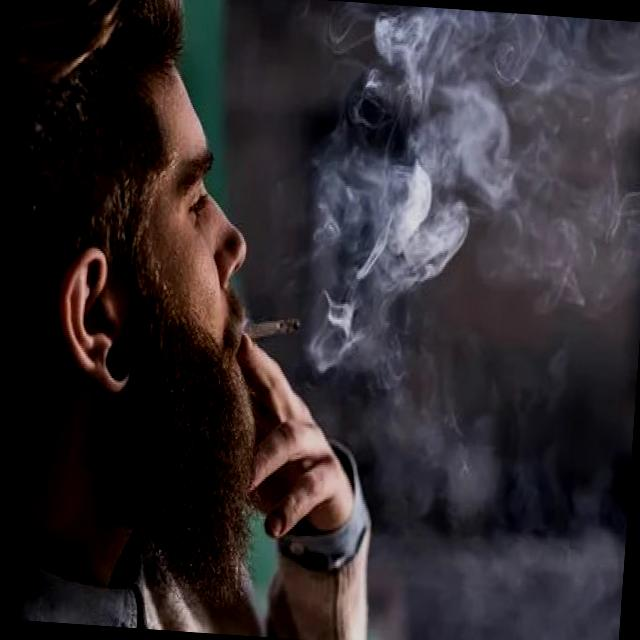cigarette: (238, 310, 303, 346)
